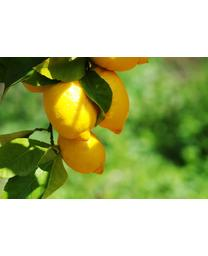lemon: (45, 81, 98, 140), (90, 65, 129, 136), (57, 129, 106, 177)
